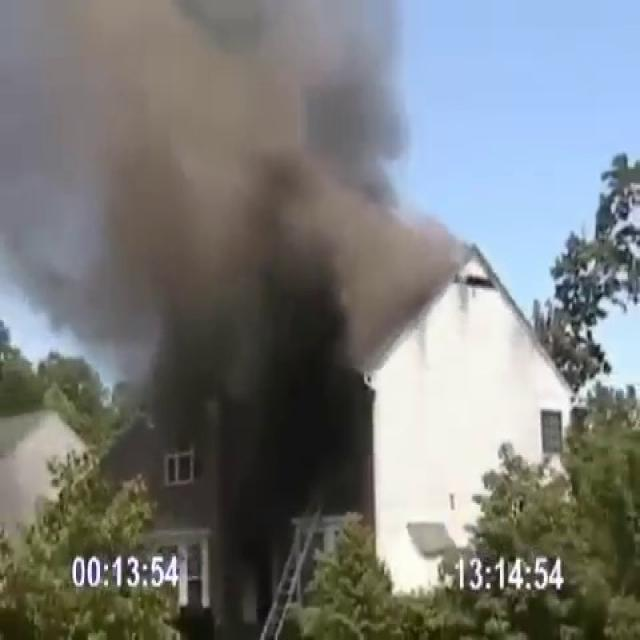Smoke: (1, 0, 456, 418)
